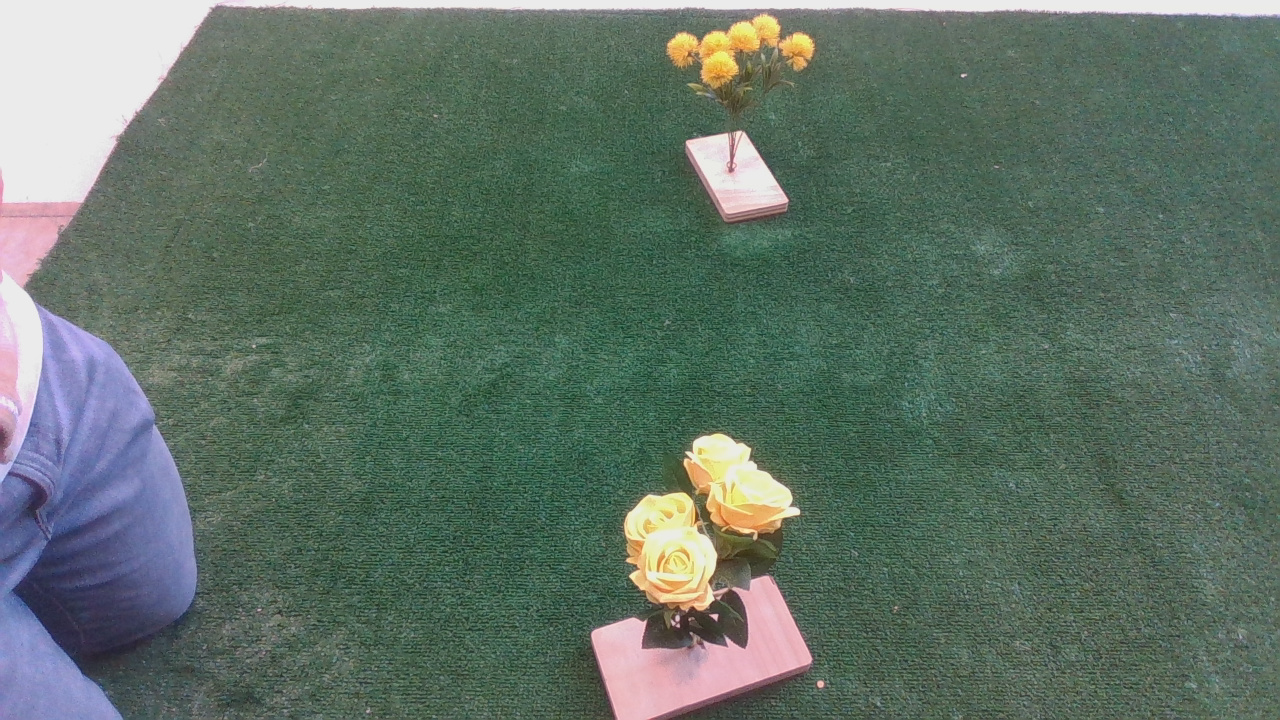dandelion: (644, 18, 833, 109)
rose: (605, 430, 813, 621)
